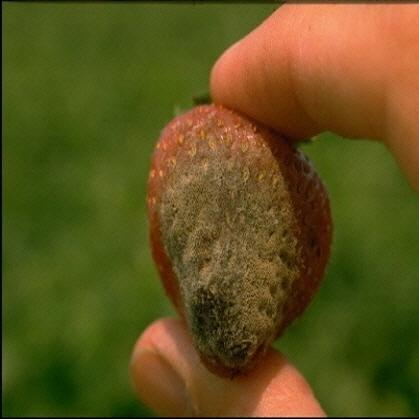Gray Mold: (150, 110, 316, 376)
